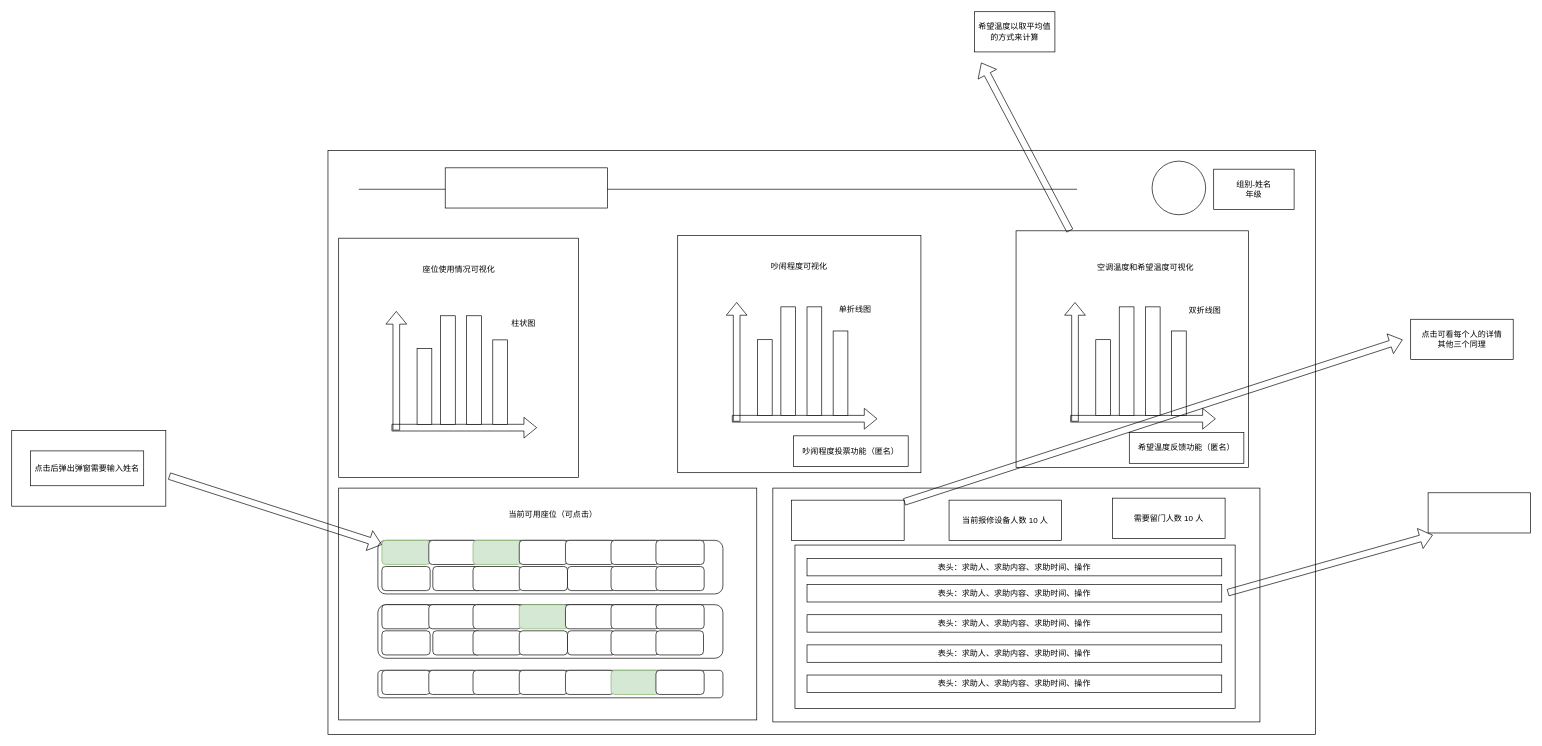
The diagram is 1542 pixels wide and 746 high, and some of its shapes have lost their labels. The shapes that lost their labels are listed below. From the top down, each one's centre as x and y in pixels, then its label:
[526,187]: 实验室资源可视化
[1178,187]: 用户头像
[847,519]: 当前录卡排队人数 10 人
[1479,512]: 操作则是“查看详情”
